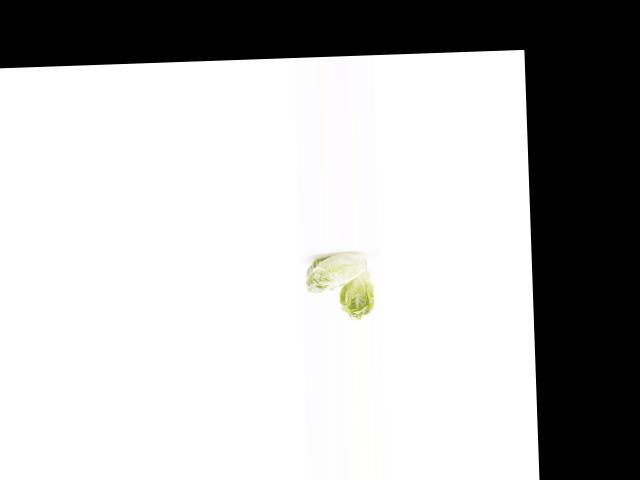lettuce: (301, 249, 372, 298)
